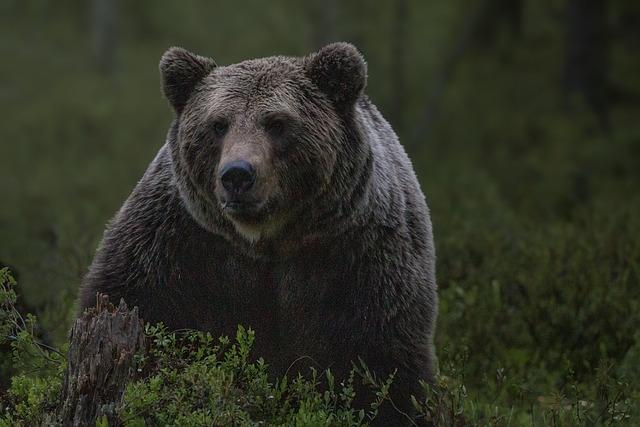Non_Gorille: (1, 0, 640, 427)
